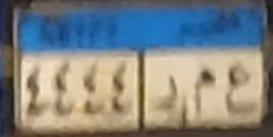4: (104, 58, 134, 114), (77, 62, 105, 116), (25, 68, 50, 119), (52, 62, 76, 114)
ain: (224, 59, 257, 117)
meem: (189, 65, 217, 115)
raa: (153, 69, 180, 111)
